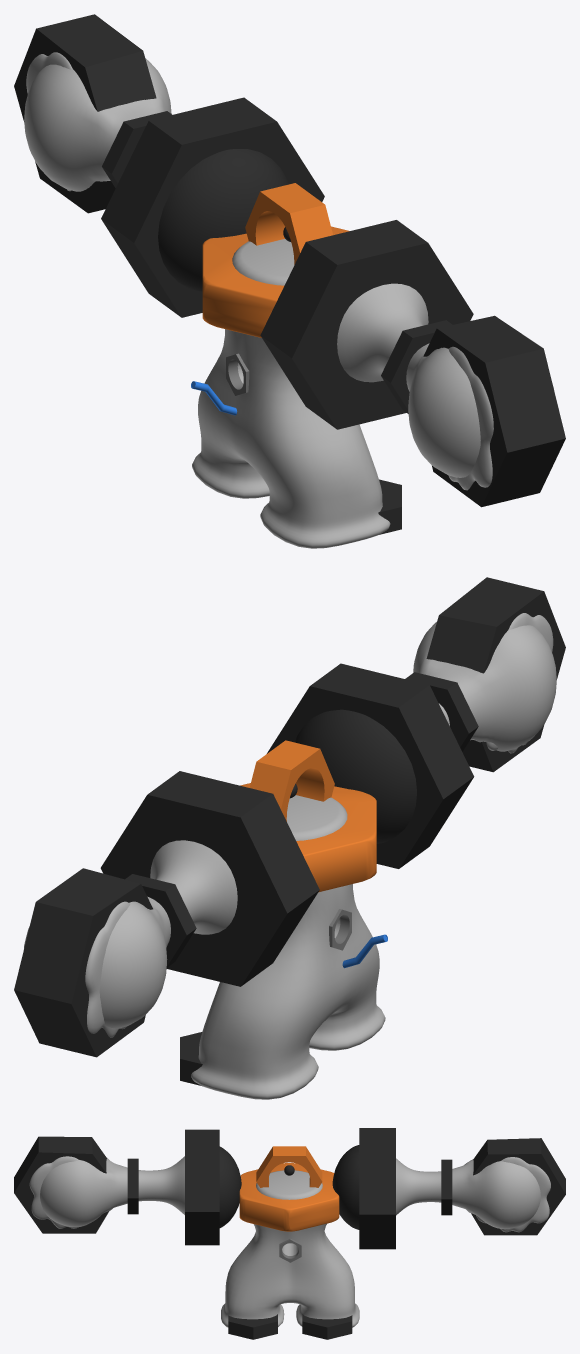
The picture shows the model from 3 angles, top to bottom: view 1: azimuth 30°, elevation 25°; view 2: azimuth 150°, elevation 25°; view 3: azimuth 270°, elevation 25°; orthographic projection. The views are drawn at different scales.
Visible parts, largest first — view 1: Cube006_0, Cylinder022_6, Cylinder032_15, Cylinder024_8, Cube007_1, Cube008_2, Sphere005_40, Cylinder027_10, Cylinder035_18, Cylinder029_12, Cylinder030_13, Plane017_33 (+5 smaller); view 2: Cube006_0, Cylinder032_15, Cylinder022_6, Cylinder027_10, Cube008_2, Cube007_1, Sphere006_41, Cylinder024_8, Cylinder035_18, Cylinder029_12, Cylinder030_13, Cylinder028_11 (+5 smaller); view 3: Cube006_0, Cube008_2, Cube007_1, Cylinder032_15, Cylinder022_6, Cylinder035_18, Cylinder024_8, Cylinder027_10, Sphere005_40, Cylinder029_12, Sphere006_41, Cylinder030_13 (+7 smaller).
Part boxes in pixels (x1,y1,x2,y2): Cube006_0: [192, 329, 390, 548]; Cylinder022_6: [260, 220, 473, 429]; Cylinder032_15: [101, 97, 324, 317]; Cylinder024_8: [423, 315, 565, 507]; Cube007_1: [337, 283, 554, 477]; Cube008_2: [24, 58, 171, 191]; Sphere005_40: [158, 149, 288, 291]; Cylinder027_10: [14, 14, 156, 213]; Cylinder035_18: [202, 226, 349, 337]; Cylinder029_12: [245, 183, 332, 264]; Cylinder030_13: [232, 239, 294, 285]; Plane017_33: [432, 346, 493, 490]; Cube006_0: [191, 884, 385, 1099]; Cylinder032_15: [100, 771, 319, 986]; Cylinder022_6: [267, 663, 474, 868]; Cylinder027_10: [14, 868, 152, 1057]; Cube008_2: [24, 840, 237, 1028]; Cube007_1: [413, 622, 556, 751]; Sphere006_41: [295, 709, 416, 843]; Cylinder024_8: [426, 577, 565, 772]; Cylinder035_18: [240, 783, 376, 892]; Cylinder029_12: [249, 740, 334, 821]; Cylinder030_13: [286, 795, 347, 840]; Cylinder028_11: [125, 874, 196, 967]; Cube006_0: [221, 1223, 359, 1327]; Cube008_2: [396, 1158, 540, 1229]; Cube007_1: [40, 1156, 184, 1227]; Cylinder032_15: [359, 1128, 395, 1249]; Cylinder022_6: [185, 1129, 219, 1245]; Cylinder035_18: [239, 1163, 339, 1231]; Cylinder024_8: [14, 1136, 109, 1233]; Cylinder027_10: [471, 1138, 565, 1235]; Sphere005_40: [332, 1145, 359, 1229]; Cylinder029_12: [256, 1146, 322, 1187]; Sphere006_41: [219, 1146, 241, 1227]; Cylinder030_13: [256, 1170, 322, 1199].
Size of the model in its own units: 5 by 7.9 by 22.02.
